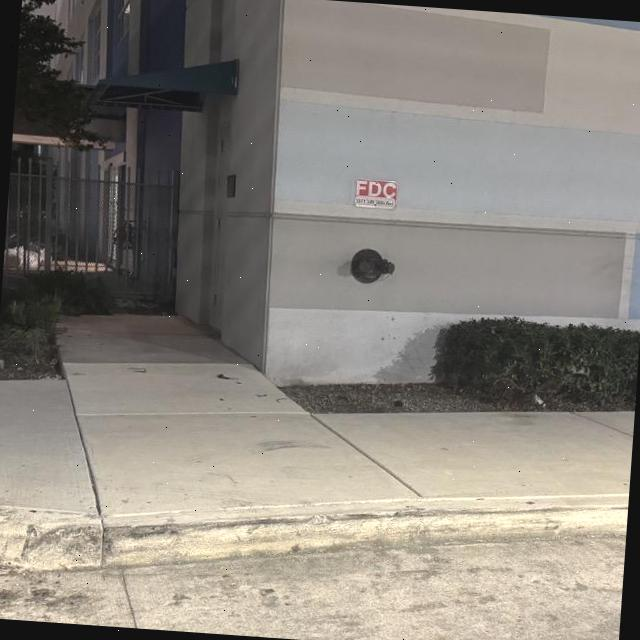curb: (0, 495, 628, 572)
